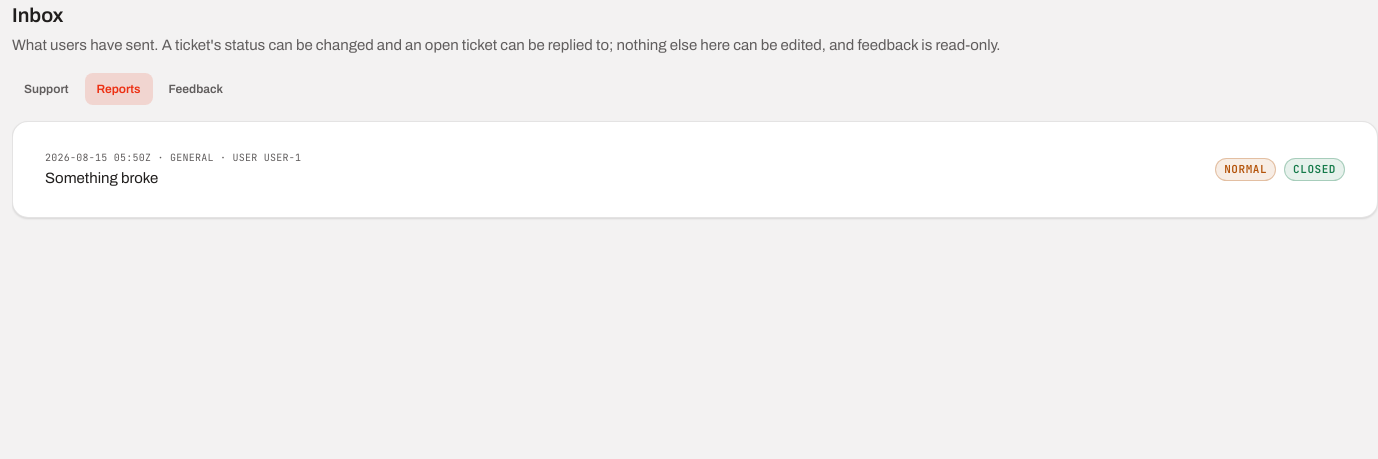
it: AdminInboxPanel — reply › closed tickets offer no composer at all › hides the composer on a closed Support ticket, which stays readable
Click the button "Something broke" at [98, 157], box [29,138,1361,201]
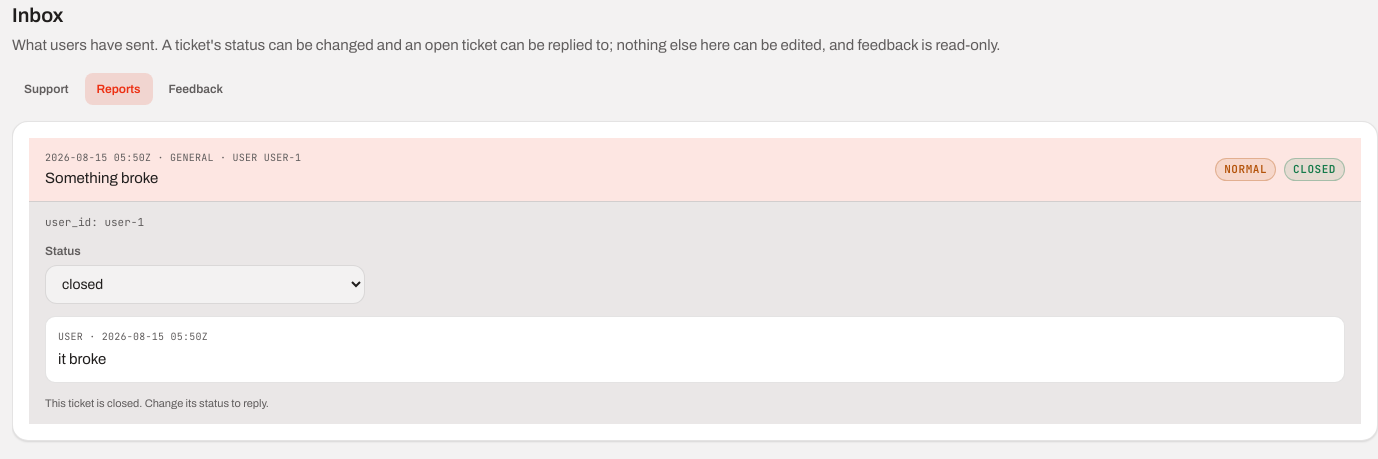
Check: the text "it broke" is shown, box [58,350,106,366]
Check: the text "This ticket is closed. Change its status to reply." is shown, box [45,397,269,409]
